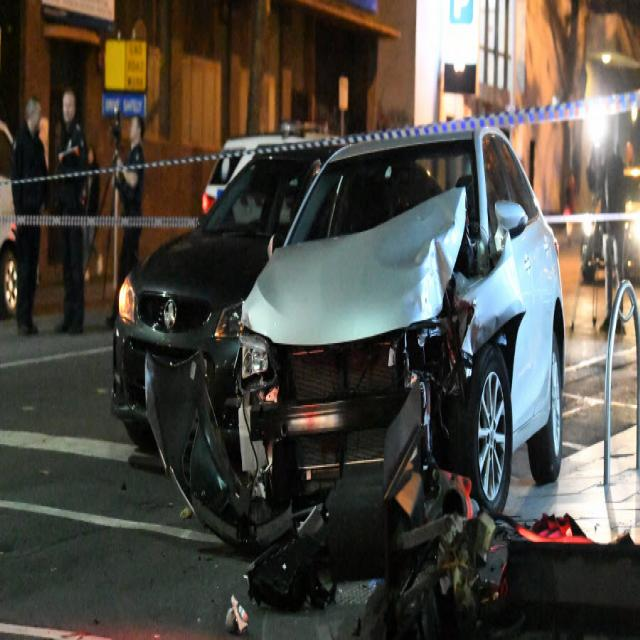accident: (217, 138, 570, 576)
